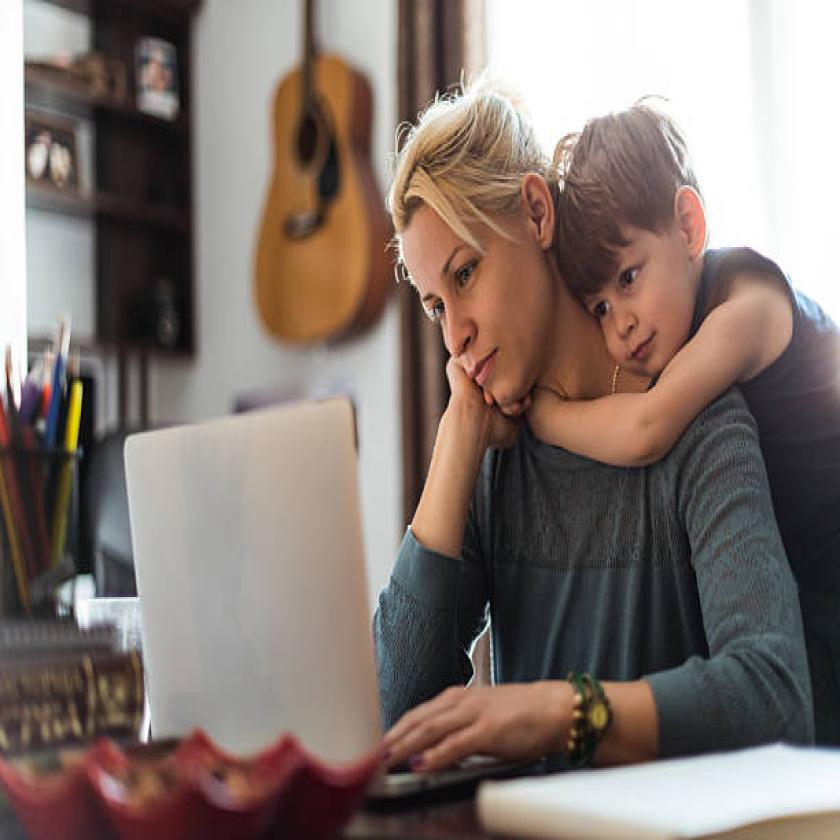Sin_casco: (383, 64, 559, 425), (567, 81, 716, 394)
